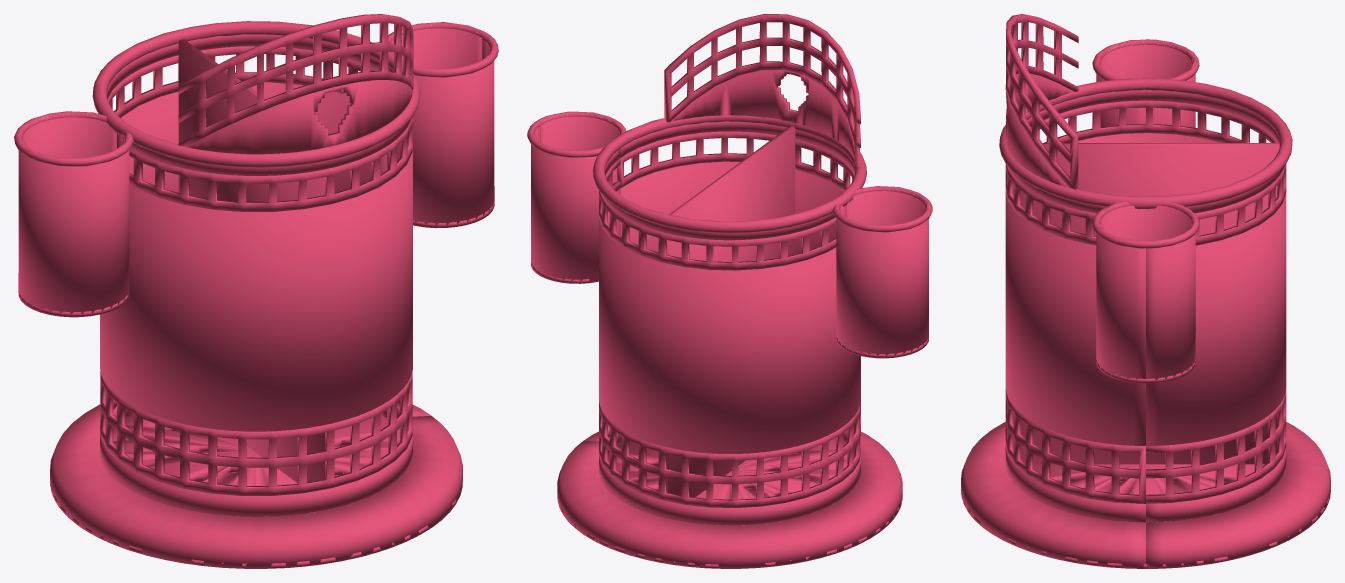
The model's file is PROP_chopstick_holder_v2_OPT.glb.
3 renders of one model, left to right at view 1: azimuth 30°, elevation 25°; view 2: azimuth 150°, elevation 25°; view 3: azimuth 270°, elevation 25°, orthographic. The views are drawn at different scales.
Visible parts, largest first — view 1: ChopstickHolder; view 2: ChopstickHolder; view 3: ChopstickHolder.
Boxes of the visible parts, x1,y1,x2,y2 form: ChopstickHolder: (14, 14, 498, 568); ChopstickHolder: (527, 14, 932, 568); ChopstickHolder: (961, 14, 1330, 568).
Bounding box in the file's own units: 0.19 × 0.1999 × 0.145.
